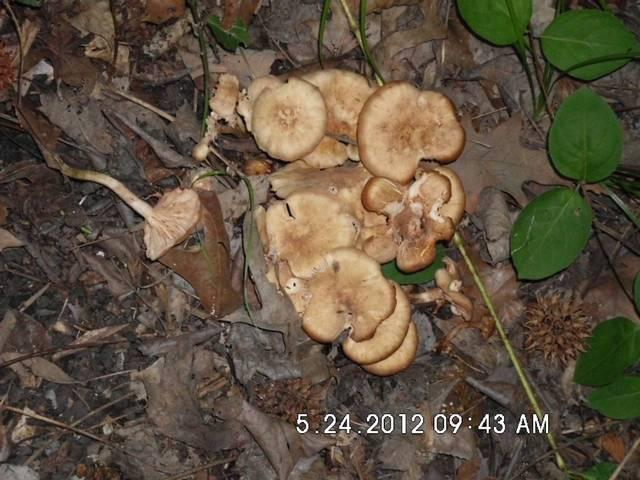Edible Mushroom: (194, 63, 468, 376)
